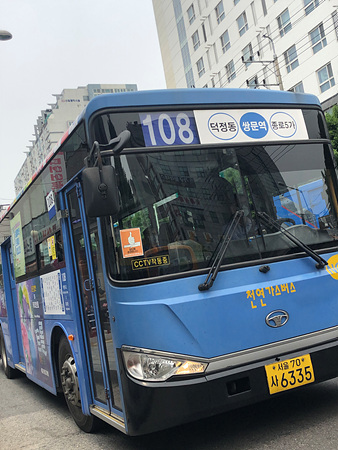bnum: (140, 111, 196, 144)
